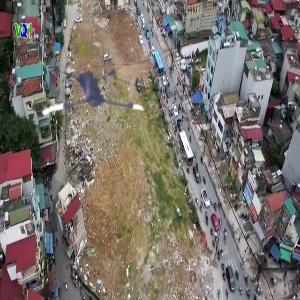drone: (26, 39, 137, 150)
